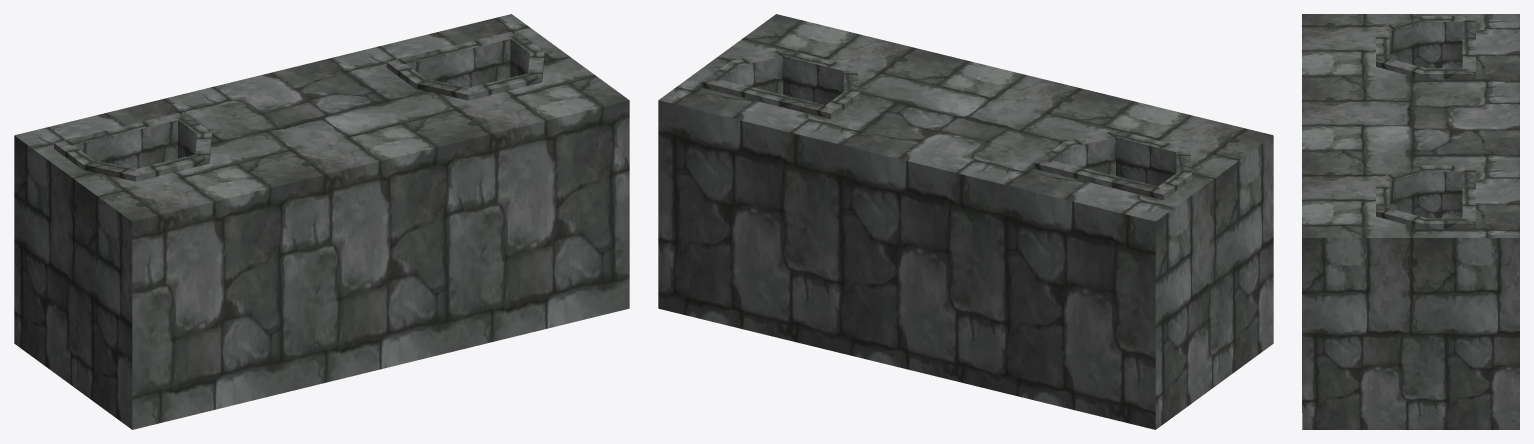
Rendered from sewer_road003.FBX.
The picture shows the model from 3 angles, left to right: view 1: azimuth 30°, elevation 25°; view 2: azimuth 150°, elevation 25°; view 3: azimuth 270°, elevation 25°; orthographic projection. The views are drawn at different scales.
Visible parts, largest first — view 1: sewer_road003; view 2: sewer_road003; view 3: sewer_road003.
Boxes of the visible parts, bbox=[...] form: sewer_road003: bbox=[14, 14, 629, 429]; sewer_road003: bbox=[658, 14, 1273, 429]; sewer_road003: bbox=[1302, 14, 1519, 429].
Bounding box in the file's own units: 2000 × 822 × 822.
